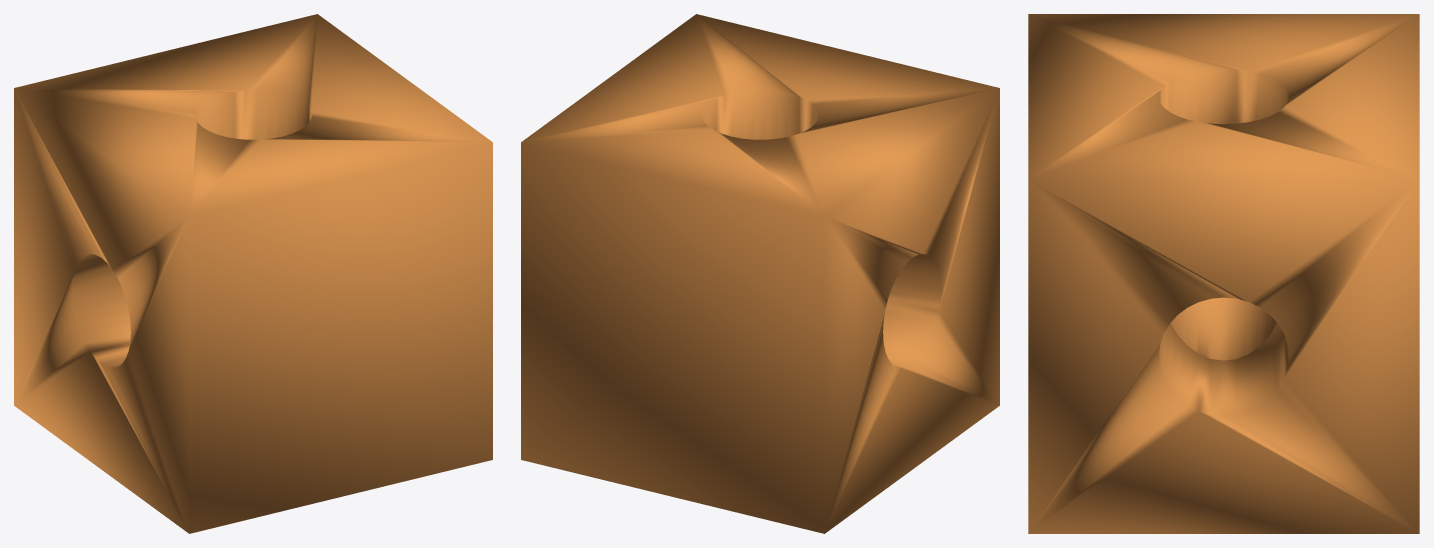
The model's file is expected.gltf.
The picture shows the model from 3 angles, left to right: view 1: azimuth 30°, elevation 25°; view 2: azimuth 150°, elevation 25°; view 3: azimuth 270°, elevation 25°; orthographic projection. The views are drawn at different scales.
Bounding box in the file's own units: 30 × 30 × 30.
